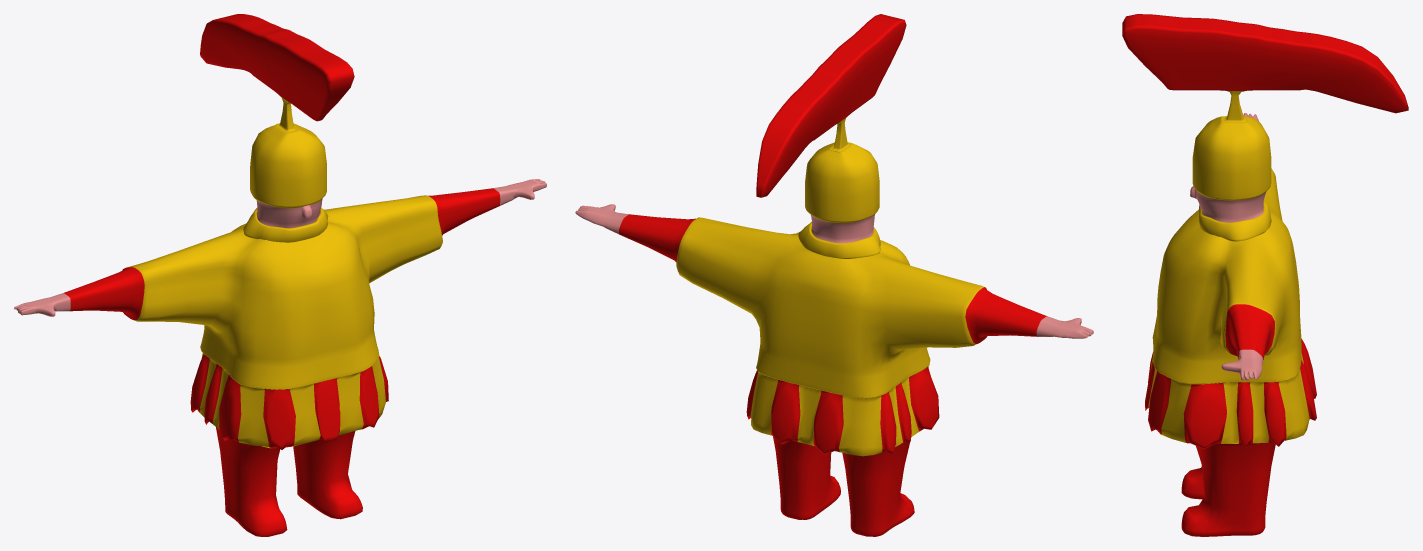
Rendered from ares.fbx.
3 views of the same model, side by side, from view 1: azimuth 30°, elevation 25°; view 2: azimuth 150°, elevation 25°; view 3: azimuth 270°, elevation 25° (orthographic). The views are drawn at different scales.
Visible parts, largest first — view 1: pCube1; view 2: pCube1; view 3: pCube1.
Part boxes in pixels (bbox=[...]): pCube1: bbox=[14, 14, 546, 536]; pCube1: bbox=[575, 14, 1093, 536]; pCube1: bbox=[1122, 14, 1408, 536].
Bounding box in the file's own units: 8.54 × 7.41 × 3.92.
